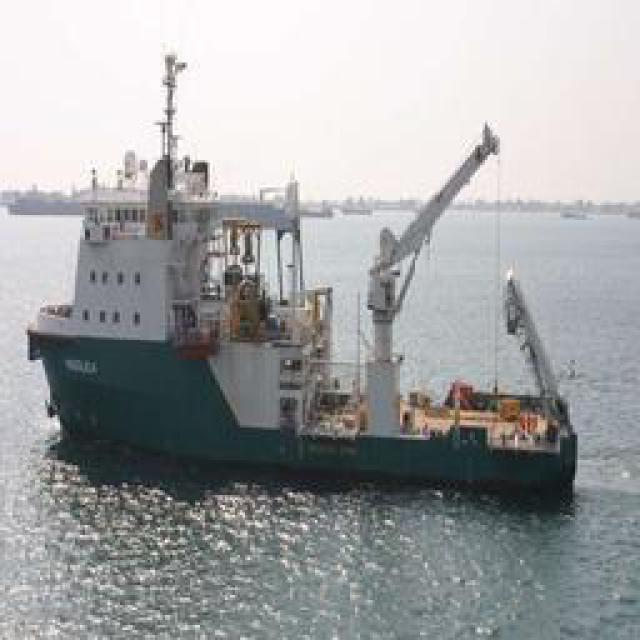Ship: (23, 95, 578, 488)
